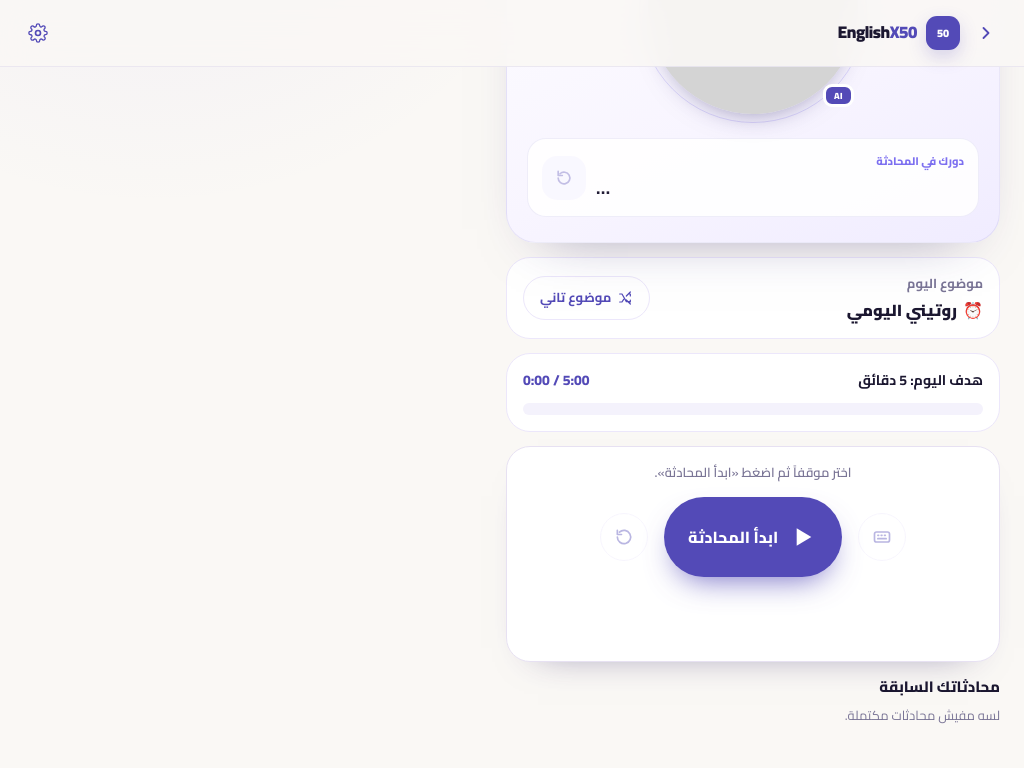
SpeakScreen › completes a push-to-talk turn with no tips shown, and grows the progress bar
This screenshot has width=1024, height=768.
(page scrolled)
What coordinates should you click on to do the following:
click the button "ابدأ المحادثة"
I would click on:
 (753, 536)
Its box is [664,496,842,576].
(page scrolled)
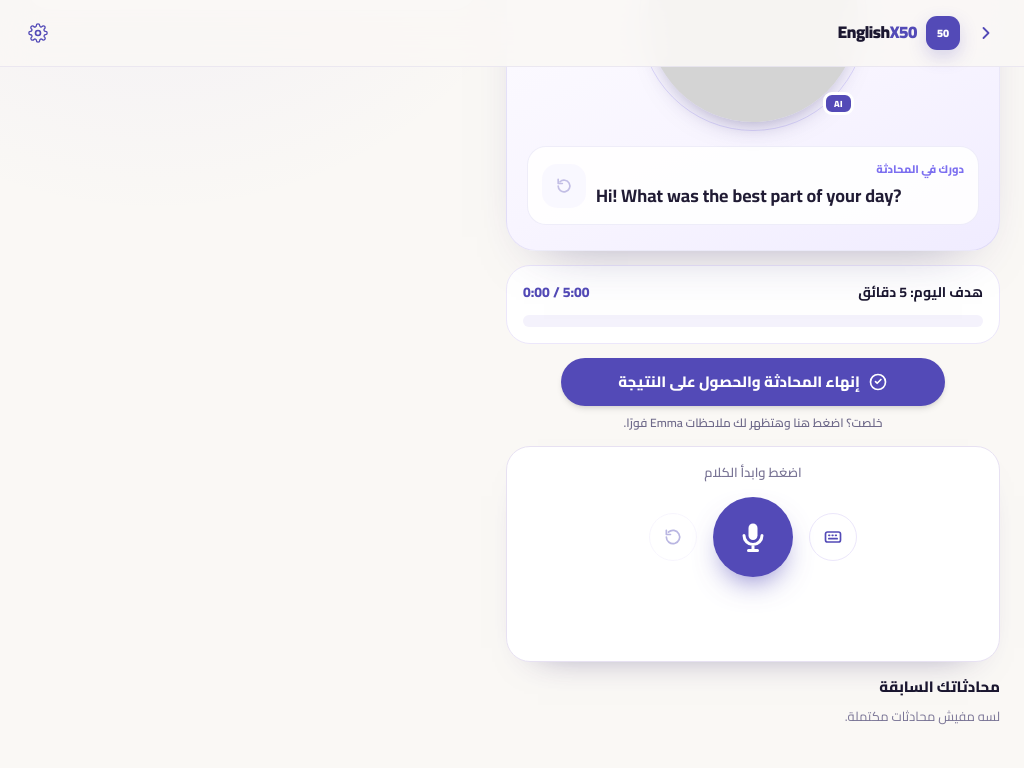
Now the button named "ابدأ التسجيل" is shown
Now the button named "ابدأ التسجيل" is enabled
What coordinates should you click on to do the following:
click the button named "ابدأ التسجيل"
I would click on:
 (753, 537)
Its box is [713,497,793,577].
Wait 1200 ms
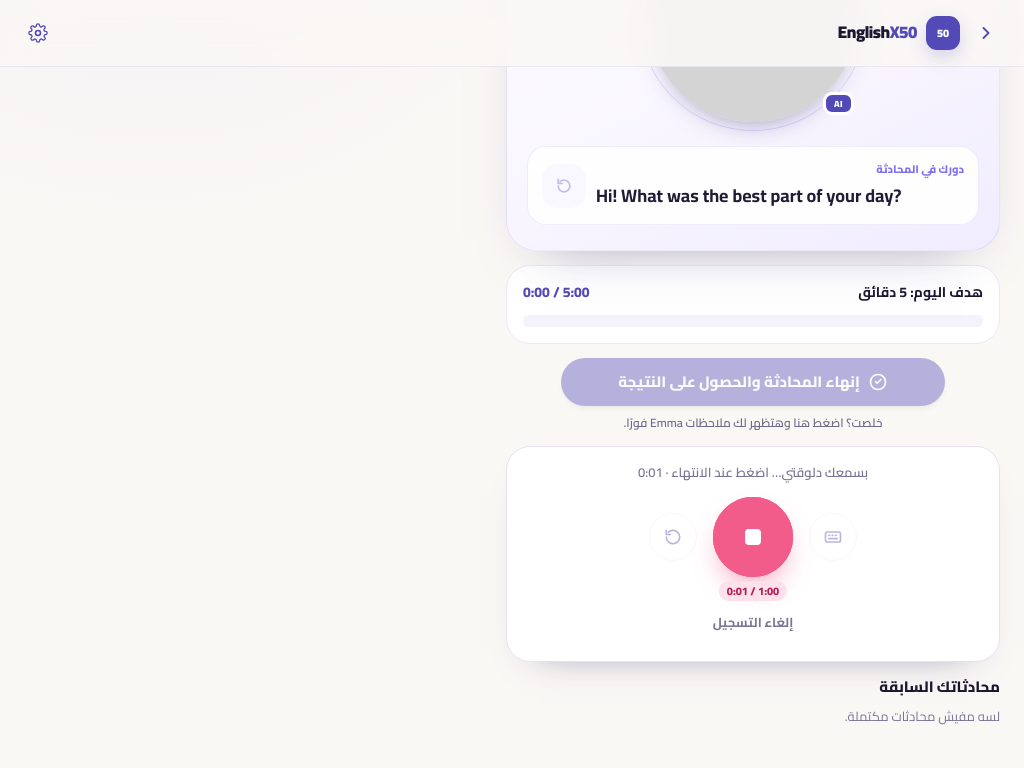
Now the message shows "بسمعك دلوقتي", box [638,460,868,484]
What coordinates should you click on to do the following:
click the button named "إنهاء التسجيل"
I would click on:
 (753, 537)
Its box is [713,497,793,577].
(page scrolled)
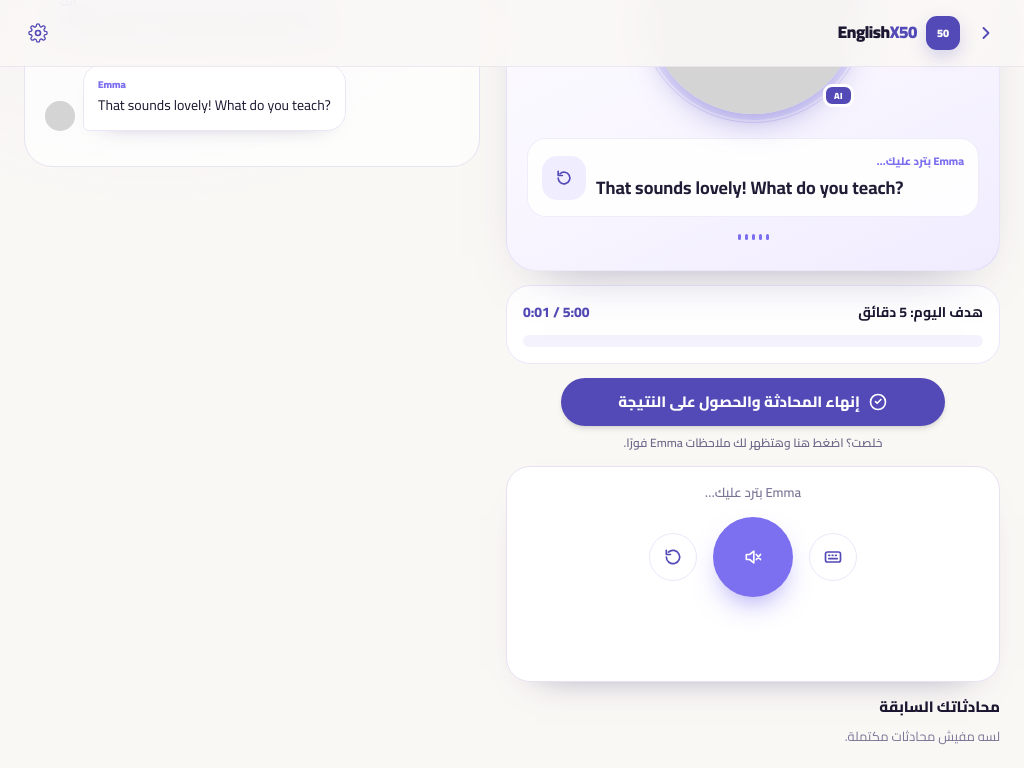
Now the text "That sounds lovely! What do you teach?" below "AI" is shown, box [596,170,903,204]
What coordinates should you click on to do the following:
click the button named "إيقاف الصوت"
I would click on:
 (753, 557)
Its box is [713,517,793,597].
(page scrolled)
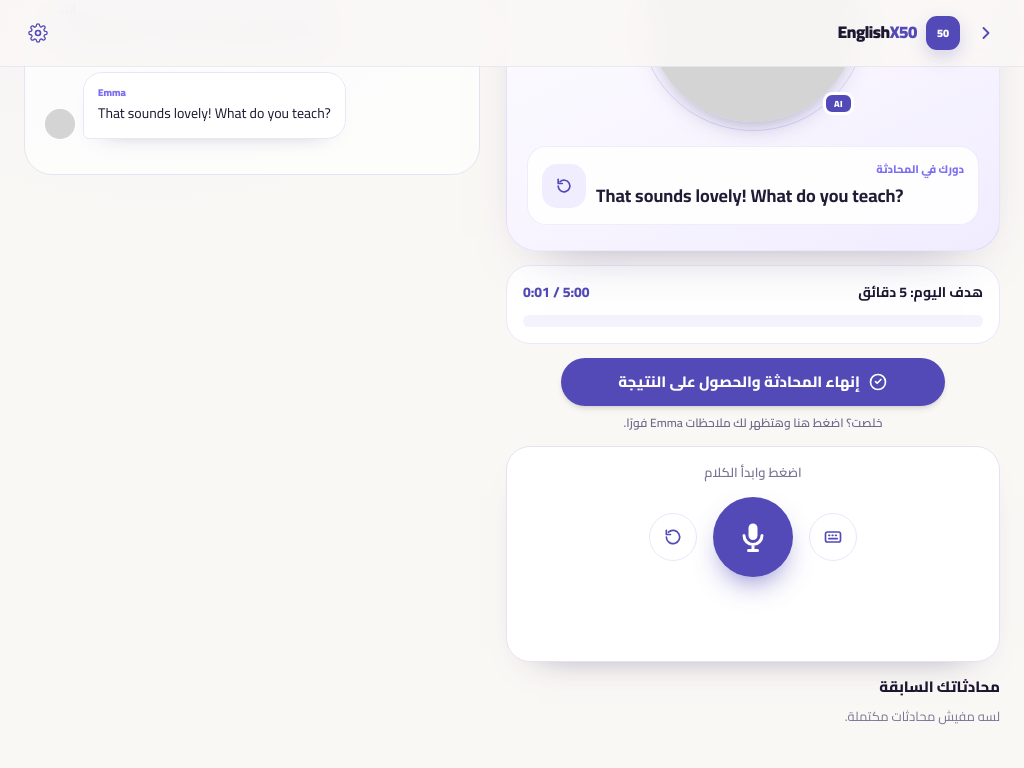
Now the button named "ابدأ التسجيل" is shown, box [713,497,793,577]
